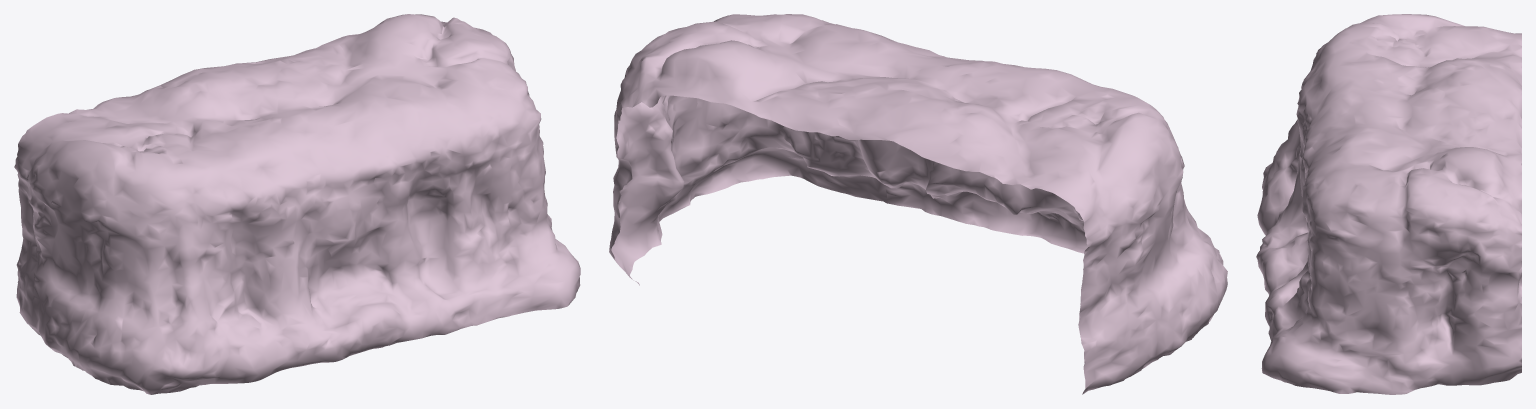
File: lava_wall_09.FBX
3 renders of one model, left to right at view 1: azimuth 30°, elevation 25°; view 2: azimuth 150°, elevation 25°; view 3: azimuth 270°, elevation 25°, orthographic. The views are drawn at different scales.
Parts seen in each view (by area): view 1: lava_wall_09_LOD0; view 2: lava_wall_09_LOD0; view 3: lava_wall_09_LOD0.
Boxes of the visible parts, bbox=[...] form: lava_wall_09_LOD0: bbox=[14, 14, 580, 394]; lava_wall_09_LOD0: bbox=[609, 14, 1227, 394]; lava_wall_09_LOD0: bbox=[1256, 14, 1521, 394].
Size of what is drawn, in the model's own units: 570 by 237 by 288.
